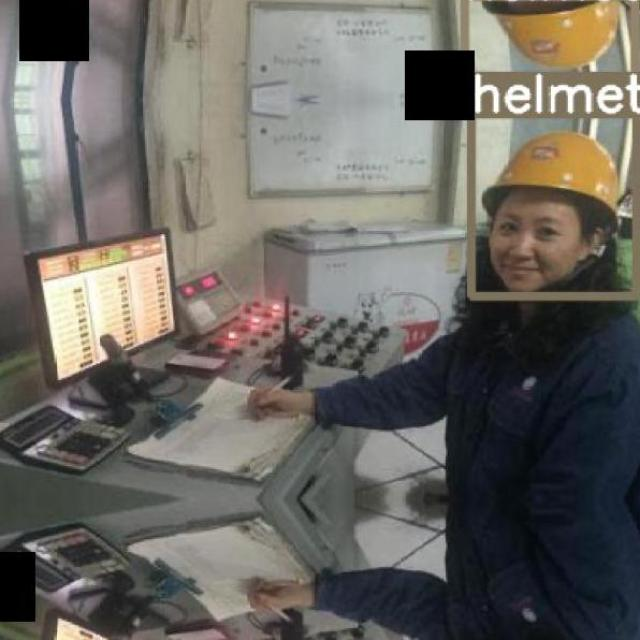yellow helmet: (478, 127, 636, 235)
